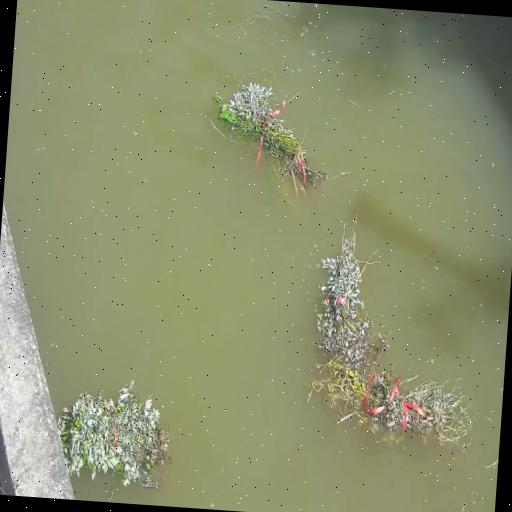twig: (206, 2, 348, 208), (306, 208, 406, 370), (54, 376, 176, 495), (312, 356, 474, 444)
